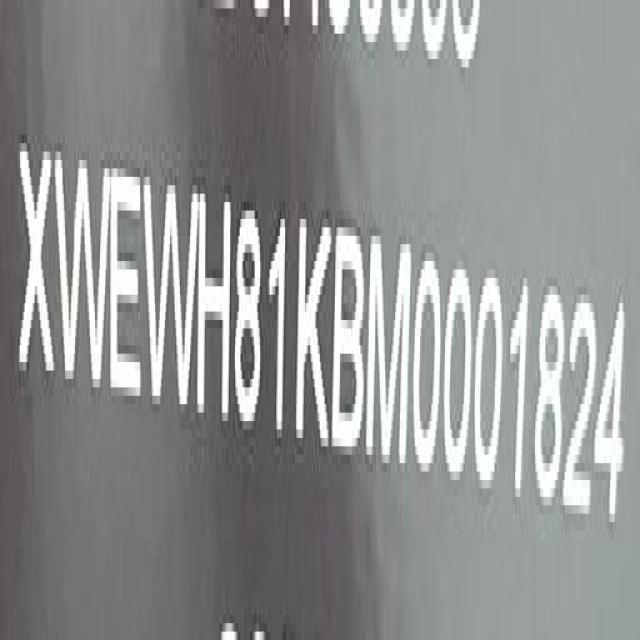0: (442, 249, 473, 499), (472, 272, 504, 508), (413, 240, 442, 477)
1: (509, 265, 530, 505), (266, 212, 288, 437)
2: (564, 290, 598, 524)
4: (594, 274, 627, 536)
8: (536, 277, 564, 508), (235, 203, 261, 427)
B: (331, 215, 366, 477)
E: (109, 150, 142, 418)
H: (195, 178, 234, 430)
K: (298, 212, 330, 452)
M: (366, 218, 412, 478)
W: (143, 153, 199, 440), (54, 137, 112, 409)
X: (20, 128, 56, 412)
